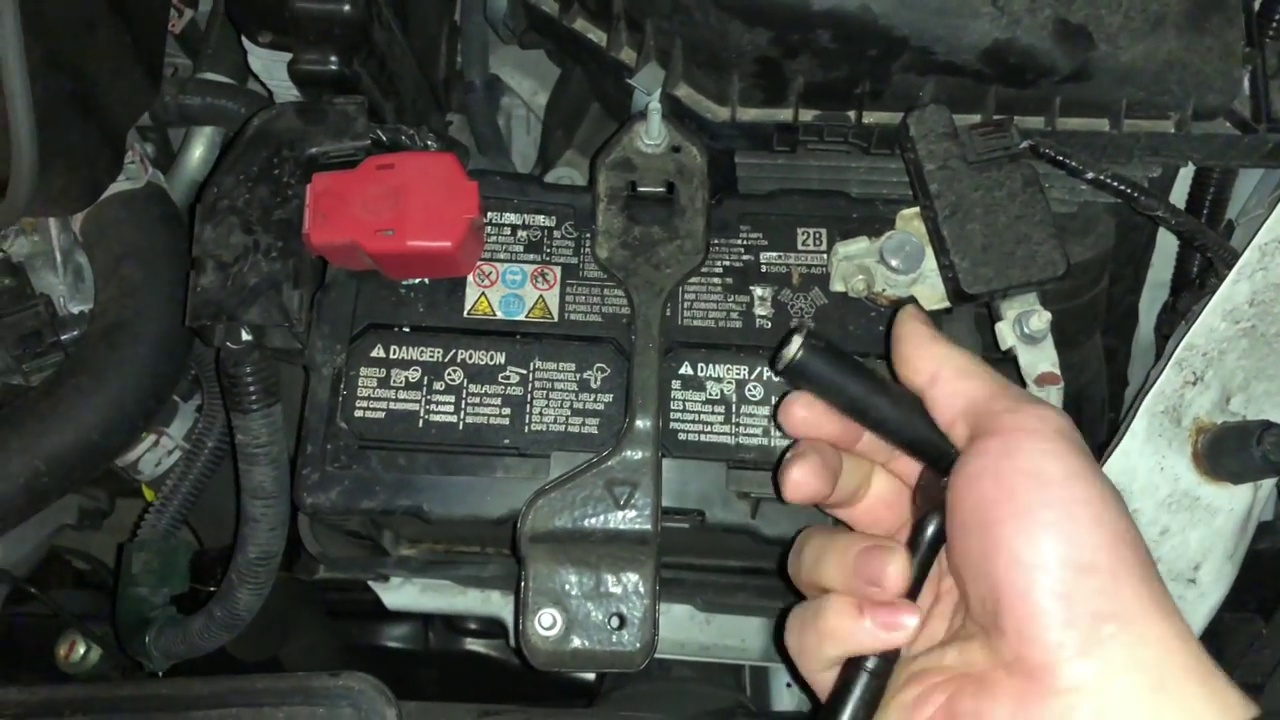battery: (310, 139, 967, 605)
neg_connected: (778, 183, 954, 312)
neg_touched: (749, 199, 1027, 492)
pos_connected: (268, 142, 498, 282)
